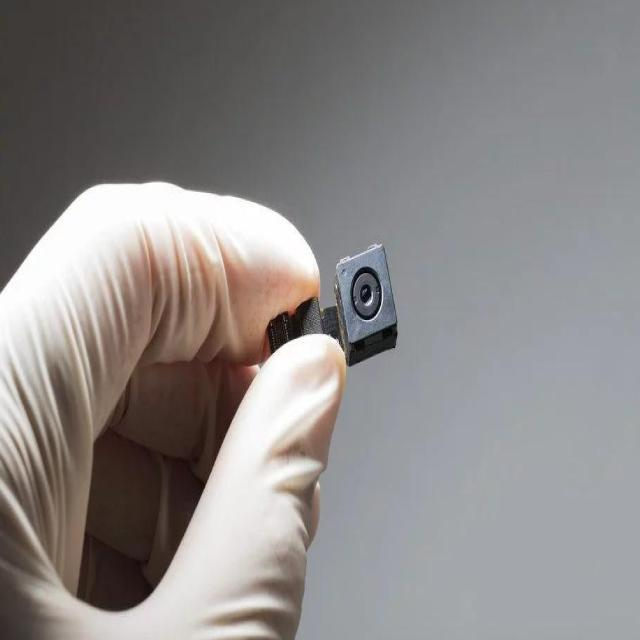hidden camera: (350, 266, 385, 327)
